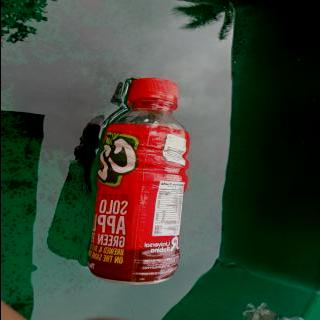bottle: (84, 76, 191, 286)
